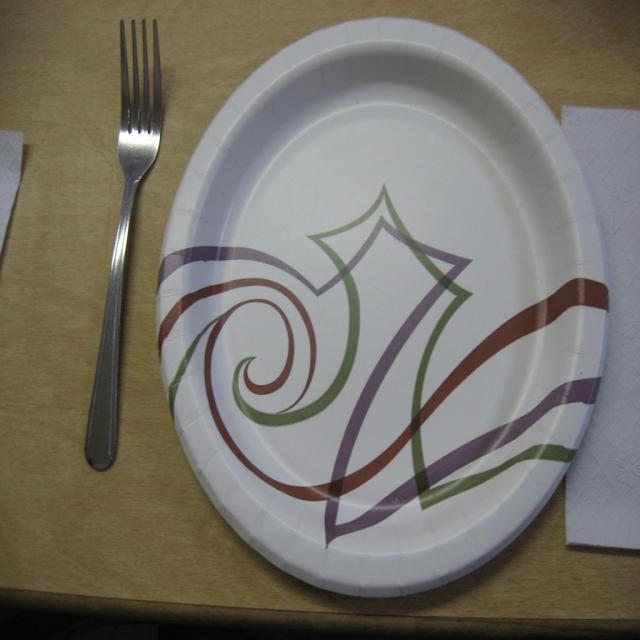non-organic waste: (148, 12, 603, 580)
